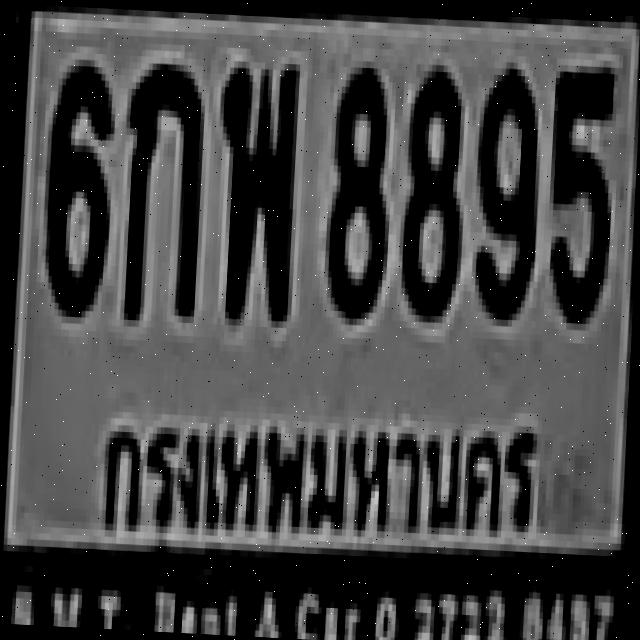10GorGai: (116, 56, 204, 316)
39PhorPan: (210, 55, 297, 322)
5: (540, 65, 614, 318)
6: (39, 58, 114, 312)
8: (322, 60, 393, 313), (396, 64, 467, 316)
9: (470, 61, 541, 314)
Bangkok: (78, 396, 547, 558)
